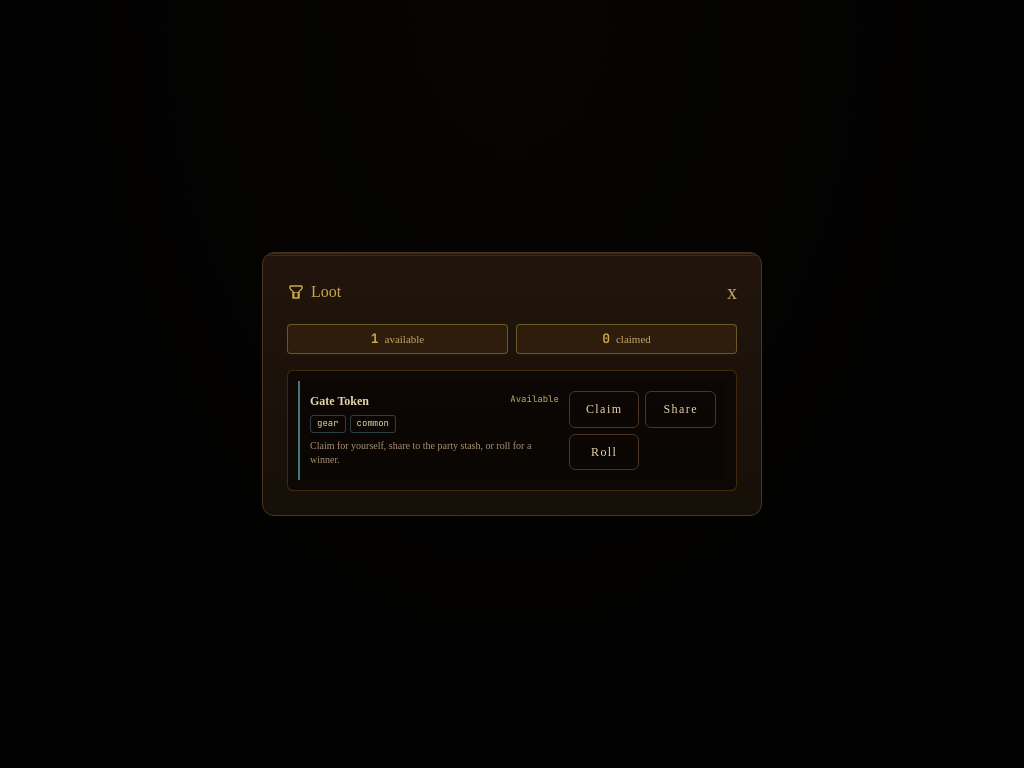
it: LootModal › marks item loot as shared party loot
Click the button with aria-label "Share Gate Token" at [681, 409], box [646,391,716,428]
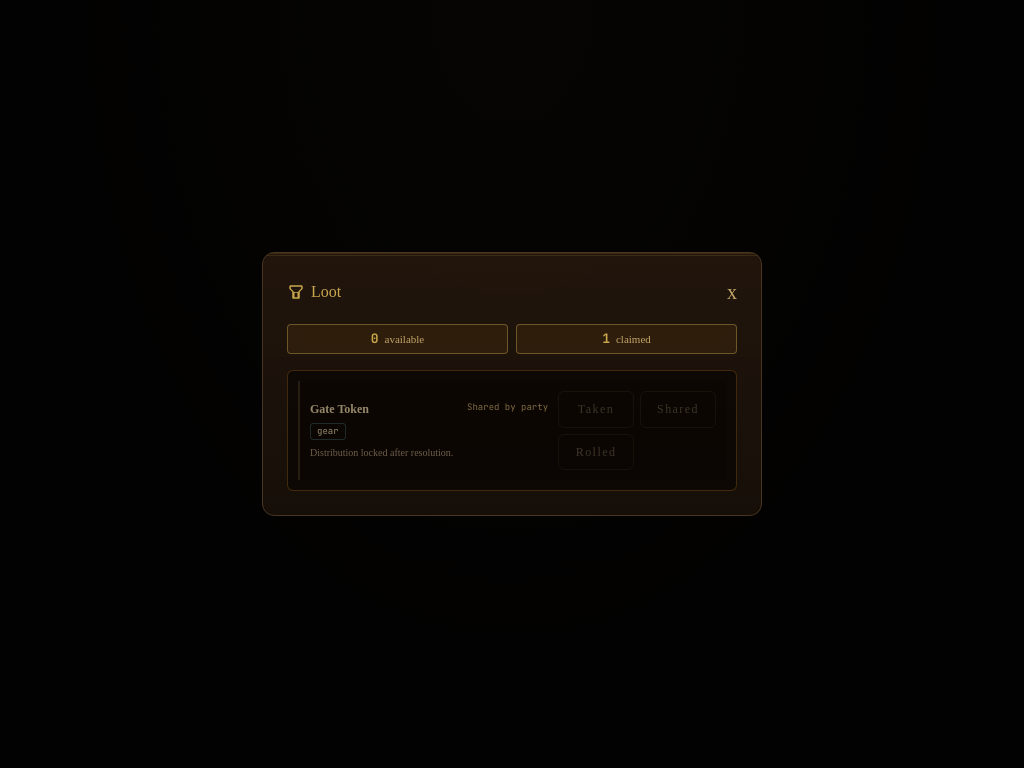
Expected: the text "Shared by party" is shown, [467,400,548,417]
Expected: the button with aria-label "Share Gate Token" is disabled, [640,391,716,428]
